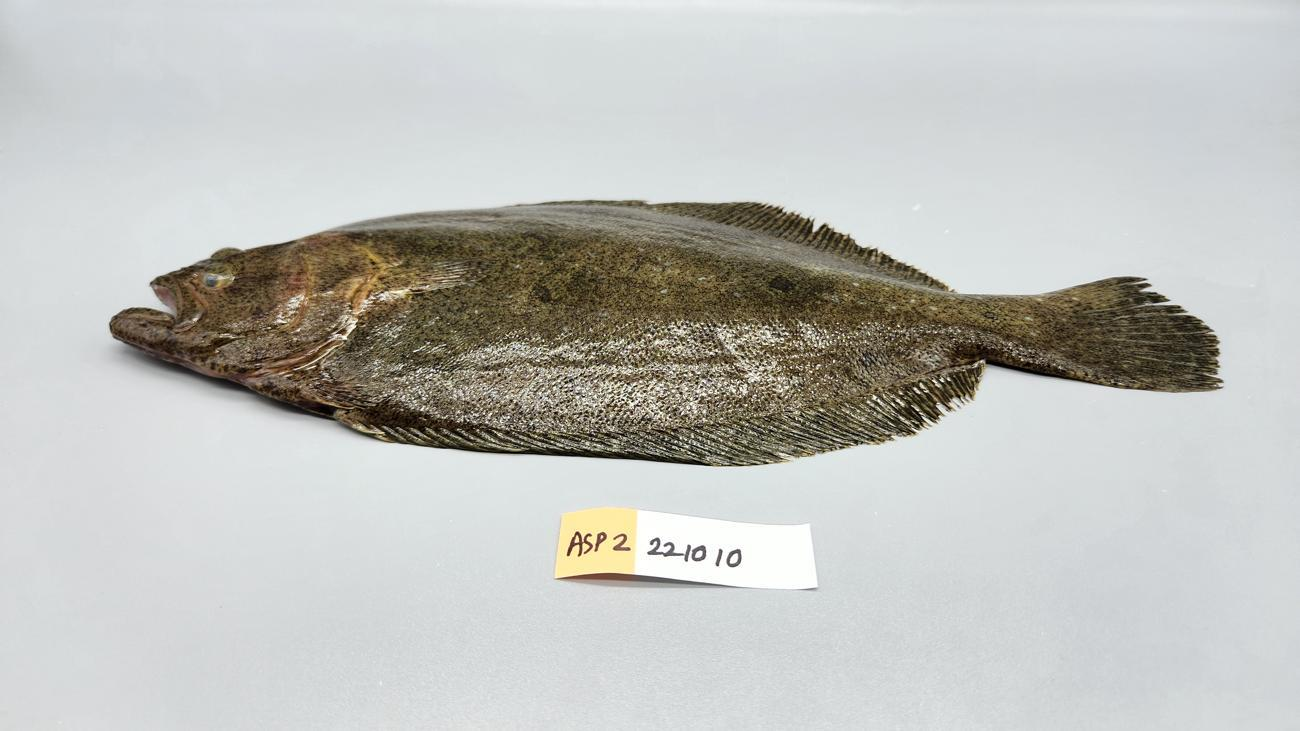SPOUY: (100, 191, 1229, 475)
